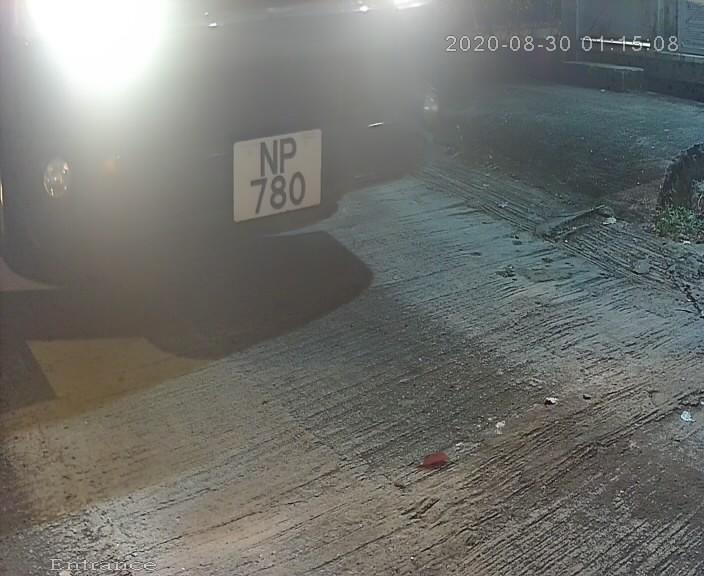License Plate: (221, 109, 331, 235)
